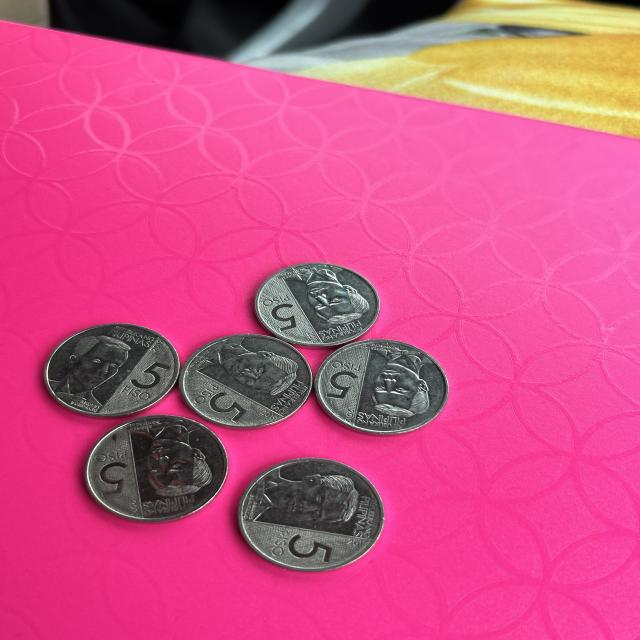5_New_Front: (265, 524, 347, 566), (261, 295, 310, 342), (191, 379, 242, 423), (122, 361, 173, 402), (96, 453, 134, 497), (324, 358, 359, 405)
